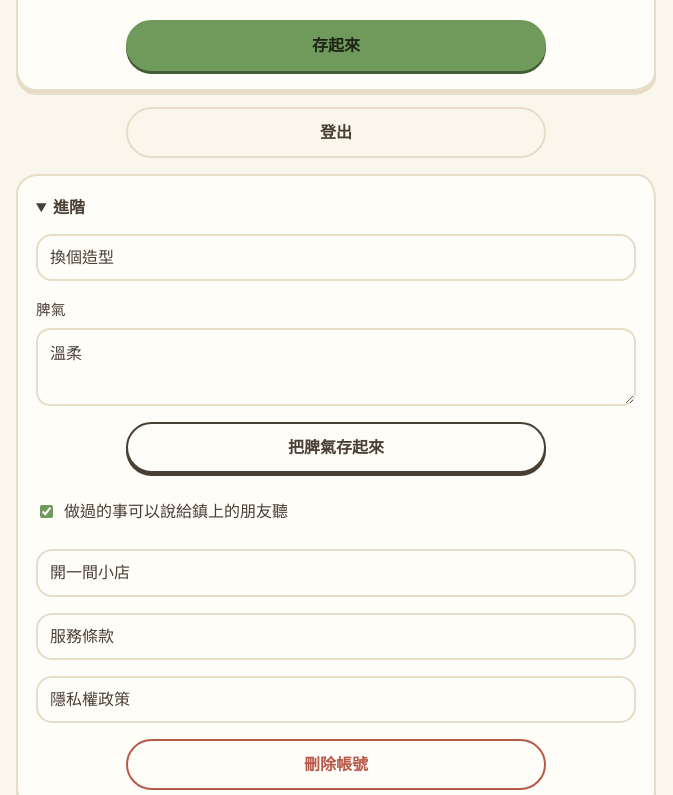
Test: LW-10 settings save › 分享開關失敗時會把勾選還原
(page scrolled)
Click the checkbox labelled "做過的事可以說給鎮上的朋友聽" at (46, 511), box 40,505 -> 53,518
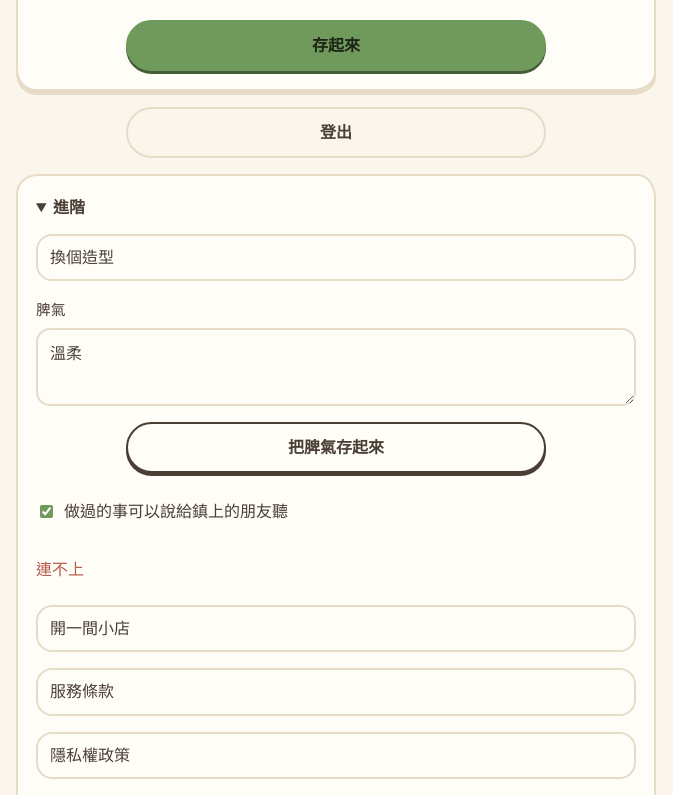
Check: the message reads "連不上", box 36,558 -> 84,580
